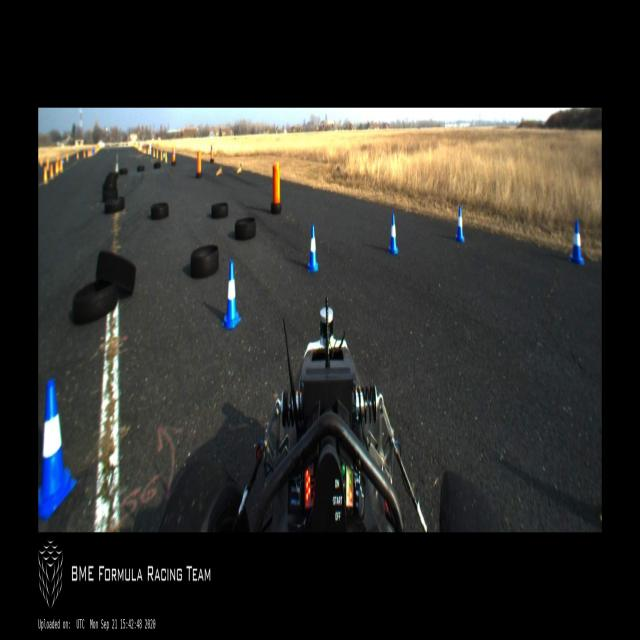blue_cone: (38, 378, 78, 520), (222, 259, 242, 329), (570, 220, 584, 265), (307, 223, 319, 272), (387, 212, 398, 255), (454, 205, 465, 243)
